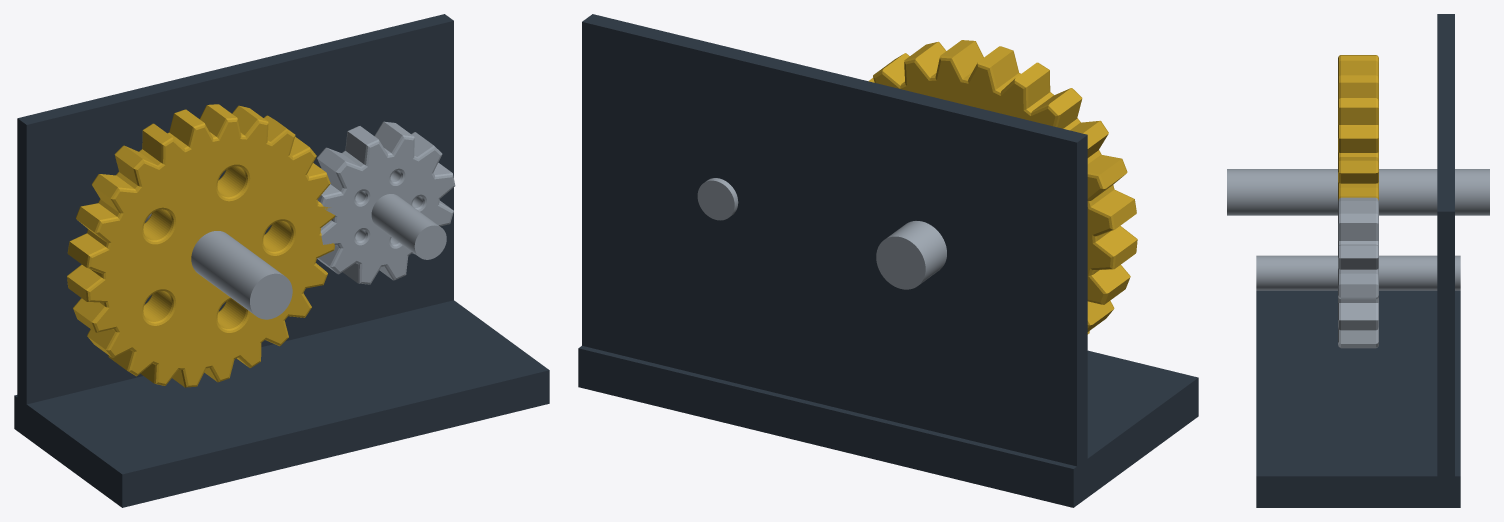
Rendered from gearbox.glb.
3 renders of one model, left to right at view 1: azimuth 30°, elevation 25°; view 2: azimuth 150°, elevation 25°; view 3: azimuth 270°, elevation 25°, orthographic. The views are drawn at different scales.
Parts seen in each view (by area): view 1: side_plate, base_plate, gear_large, gear_small, shaft_main, shaft_pinion; view 2: side_plate, base_plate, gear_large, shaft_main, shaft_pinion; view 3: base_plate, shaft_main, side_plate, gear_small, gear_large, shaft_pinion.
Boxes of the visible parts, left/top/right/bottom form: side_plate: left=17, top=14, right=453, bottom=404; base_plate: left=14, top=300, right=549, bottom=507; gear_large: left=67, top=104, right=335, bottom=387; gear_small: left=317, top=121, right=455, bottom=284; shaft_main: left=145, top=213, right=292, bottom=319; shaft_pinion: left=321, top=168, right=446, bottom=259; side_plate: left=582, top=14, right=1087, bottom=466; base_plate: left=578, top=346, right=1198, bottom=507; gear_large: left=868, top=40, right=1137, bottom=334; shaft_main: left=876, top=221, right=946, bottom=289; shaft_pinion: left=697, top=178, right=738, bottom=220; base_plate: left=1256, top=290, right=1460, bottom=507; shaft_main: left=1227, top=169, right=1489, bottom=215; side_plate: left=1437, top=14, right=1454, bottom=476; gear_small: left=1338, top=197, right=1378, bottom=348; gear_large: left=1338, top=55, right=1378, bottom=200; shaft_pinion: left=1256, top=255, right=1460, bottom=290.
Size of the model in its own units: 0.16 by 0.115 by 0.09.
